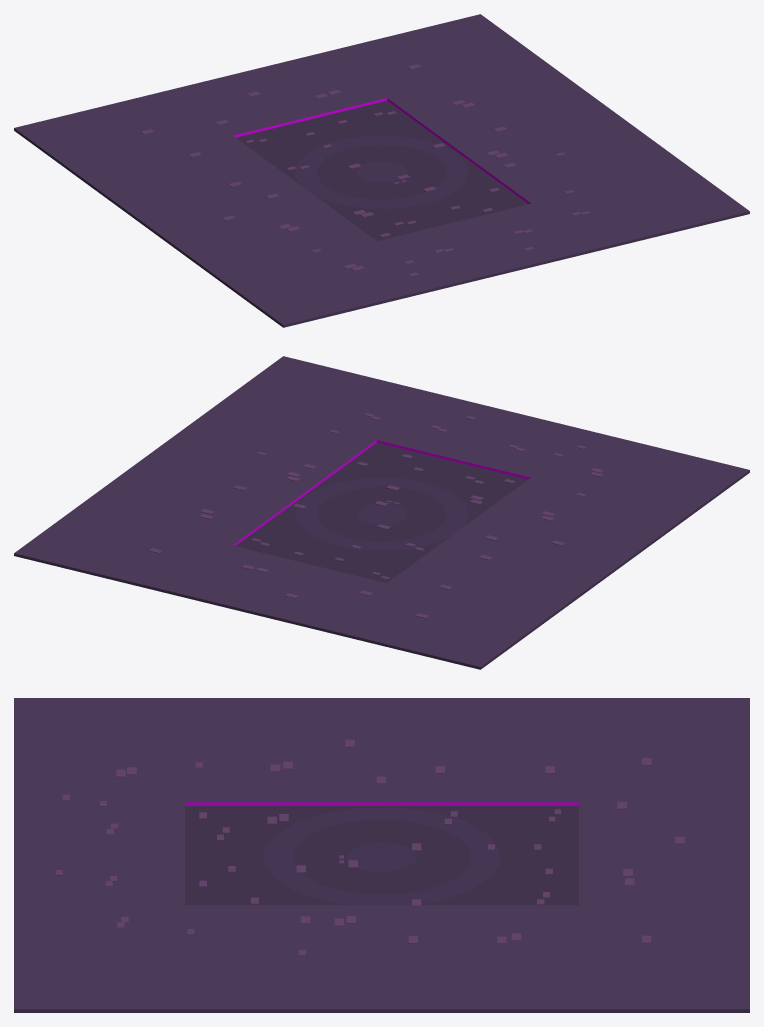
The model's file is HotZone_Ground.fbx.
3 views of the same model, one above another, from view 1: azimuth 30°, elevation 25°; view 2: azimuth 150°, elevation 25°; view 3: azimuth 270°, elevation 25° (orthographic). The views are drawn at different scales.
Parts seen in each view (by area): view 1: 1_HotZone_Ground; view 2: 1_HotZone_Ground; view 3: 1_HotZone_Ground.
Boxes of the visible parts, x1,y1,x2,y2 form: 1_HotZone_Ground: (14,14,749,327); 1_HotZone_Ground: (14,356,749,669); 1_HotZone_Ground: (14,698,749,1012).
Bounding box in the file's own units: 128 × 128 × 0.948.
